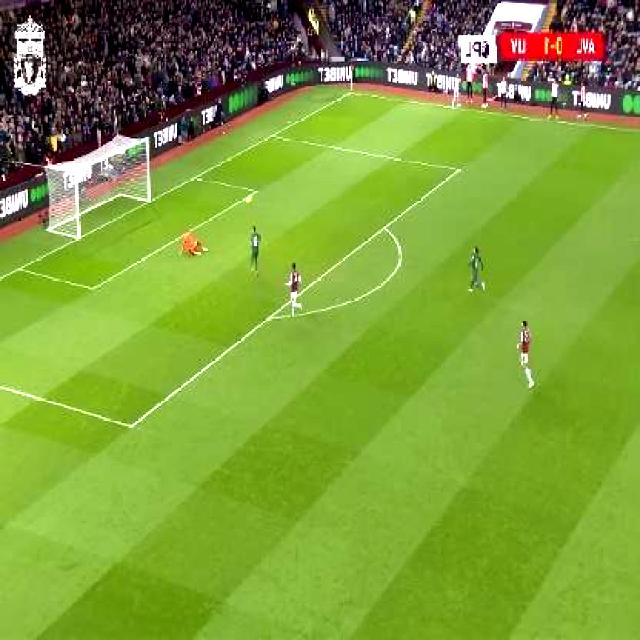bigarea_bottom_inner: (123, 412, 142, 437)
bigarea_top_inner: (454, 160, 468, 177)
bigarea_top_outter: (266, 128, 280, 142)
bottom_arc_area_intersection: (264, 306, 278, 325)
corner: (344, 85, 362, 97)
smallarea_bottom_inner: (85, 276, 102, 298)
smallarea_bottom_outter: (12, 257, 30, 277)
smallarea_top_inner: (250, 181, 264, 197)
smallarea_top_outter: (189, 169, 203, 185)
top_arc_area_intersection: (380, 218, 392, 234)
